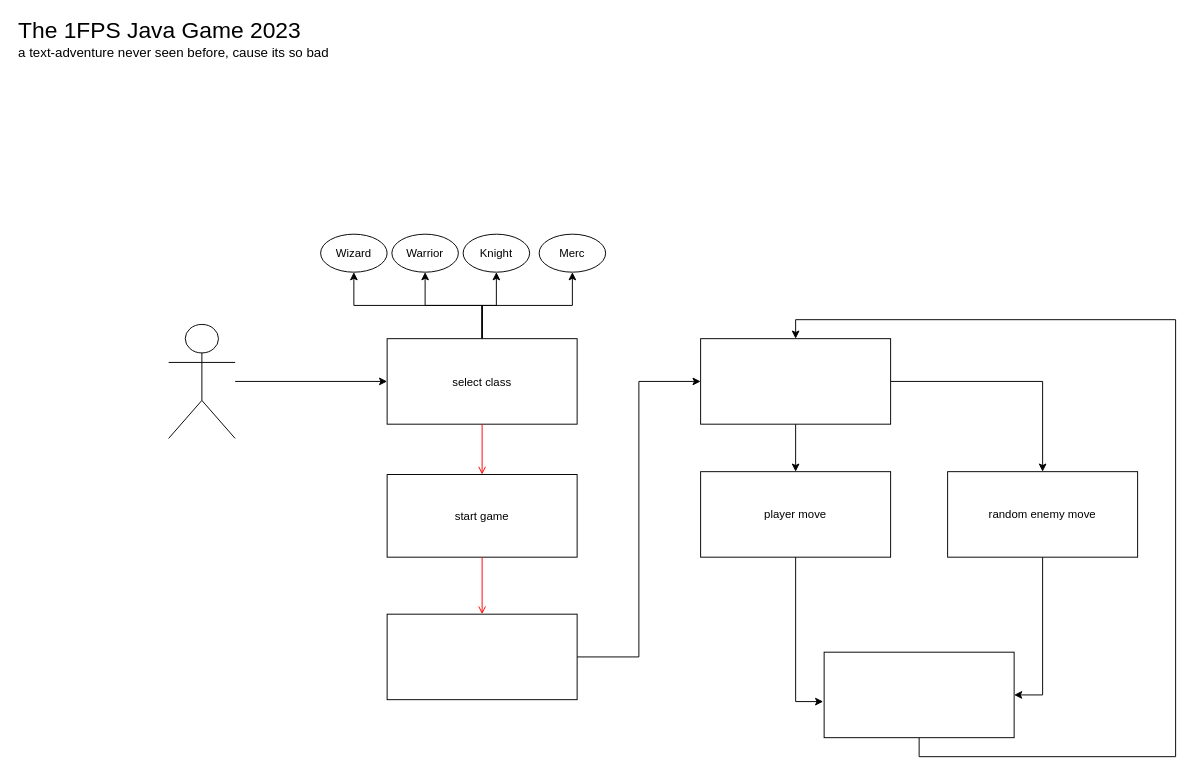
Image size: 1200x781. Some labels were removed from this diagram. The shapes that lost their labels are listed below. From the top down, each one's centre as x and y in pixels, then its label:
the point at 201,380: Player
the point at 795,381: start round
the point at 481,656: load environment
the point at 918,694: battle calculation
